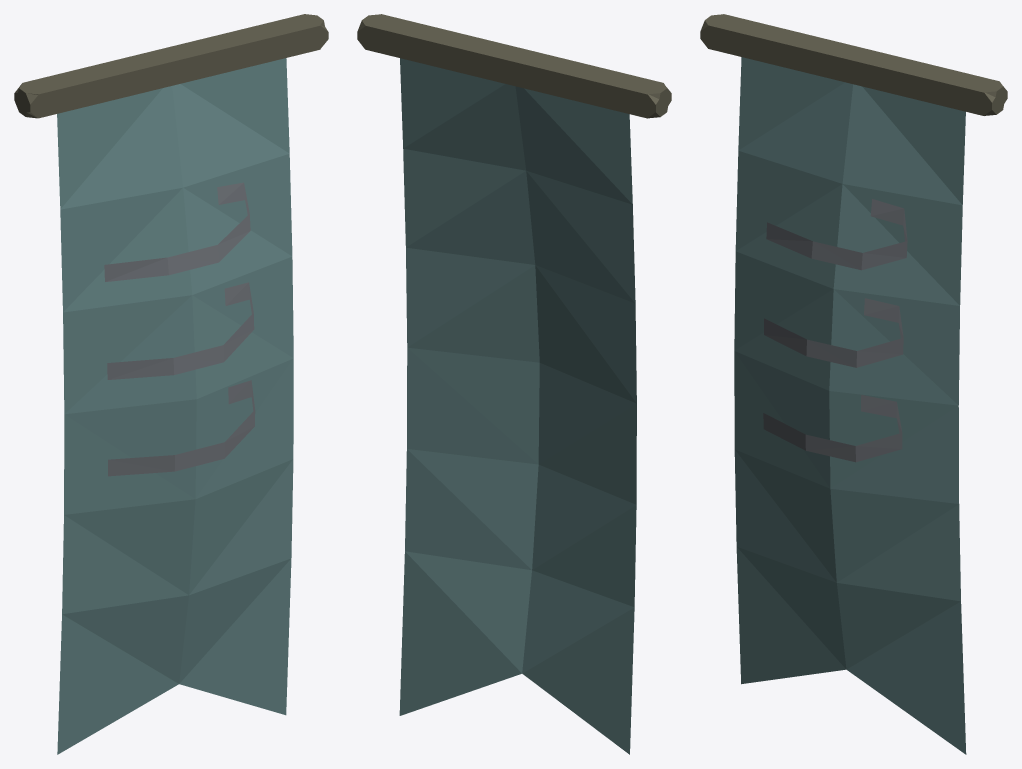
The model's file is banner_hanging.glb.
3 views of the same model, side by side, from view 1: azimuth 30°, elevation 25°; view 2: azimuth 150°, elevation 25°; view 3: azimuth 330°, elevation 25° (orthographic). The views are drawn at different scales.
Visible parts, largest first — view 1: Cloth, banner_hanging_Static; view 2: Cloth, banner_hanging_Static; view 3: Cloth, banner_hanging_Static.
Part boxes in pixels (x1=…): Cloth: x1=57, y1=58, x2=293, y2=754; banner_hanging_Static: x1=14, y1=14, x2=328, y2=118; Cloth: x1=399, y1=58, x2=636, y2=754; banner_hanging_Static: x1=357, y1=14, x2=671, y2=118; Cloth: x1=734, y1=57, x2=966, y2=754; banner_hanging_Static: x1=700, y1=14, x2=1007, y2=115.
Bounding box in the file's own units: 1.3 × 2.87 × 0.26.
